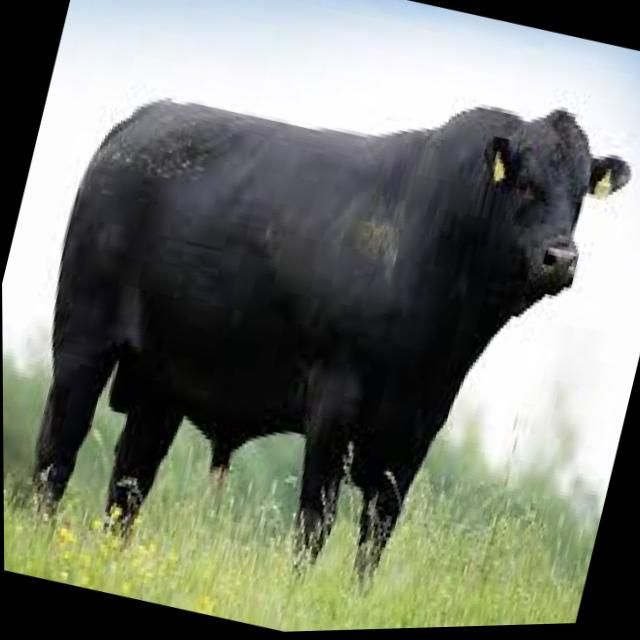cowFace: (424, 49, 640, 393)
